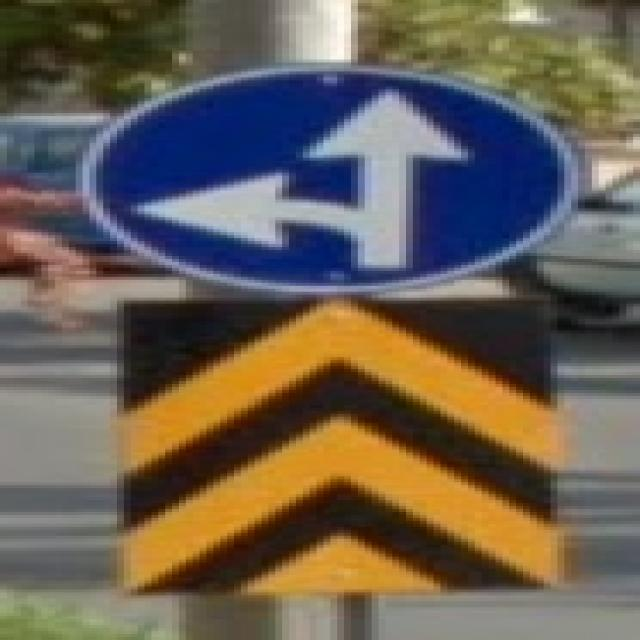Straight or Left: (84, 69, 572, 293)
